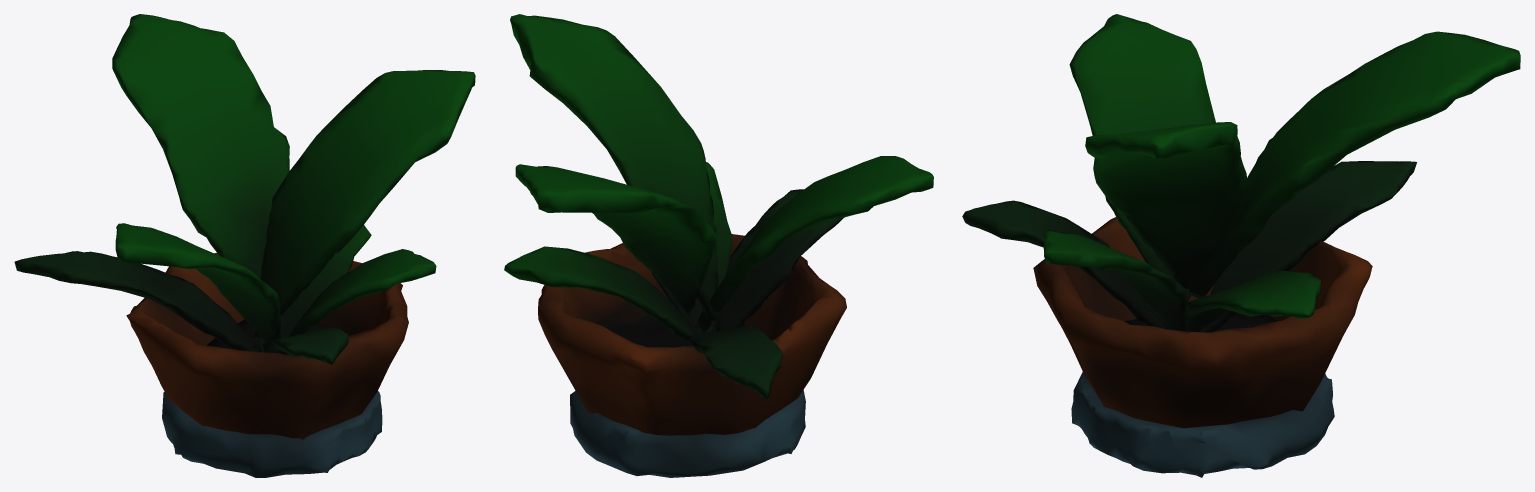
The model's file is msh_Plant_01.fbx.
3 renders of one model, left to right at view 1: azimuth 30°, elevation 25°; view 2: azimuth 150°, elevation 25°; view 3: azimuth 270°, elevation 25°, orthographic. The views are drawn at different scales.
Visible parts, largest first — view 1: plant_01; view 2: plant_01; view 3: plant_01.
Part boxes in pixels (x1,y1,x2,y2): plant_01: (14, 14, 475, 477); plant_01: (504, 14, 933, 477); plant_01: (962, 14, 1520, 477).
Size of the model in its own units: 1.16 by 0.9917 by 1.27.
